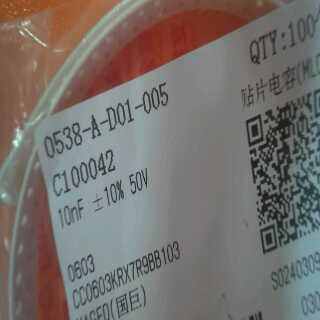10nF: (54, 197, 89, 235)
